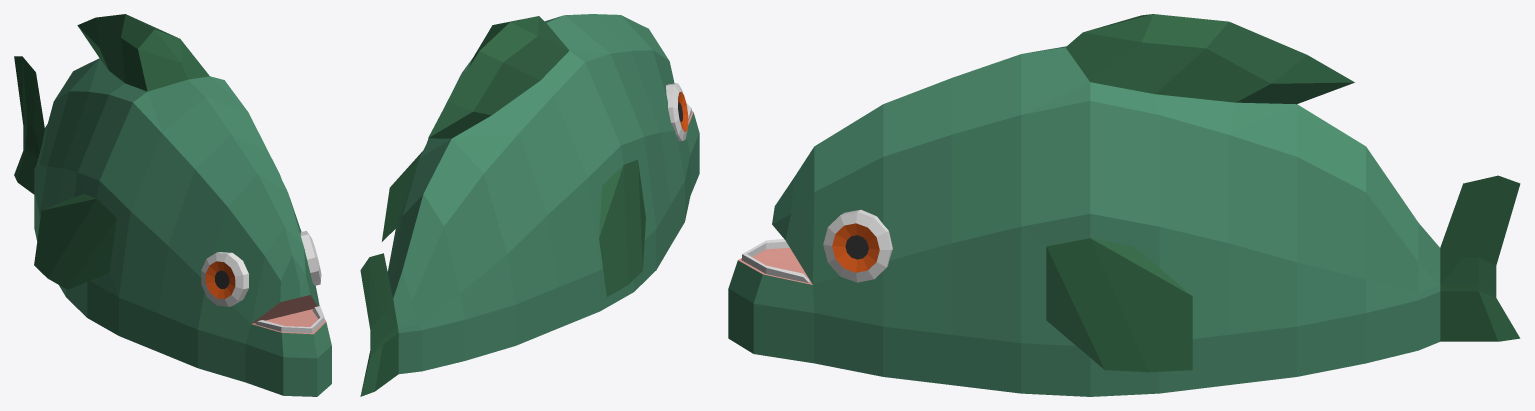
The model's file is Fish.fbx.
3 renders of one model, left to right at view 1: azimuth 30°, elevation 25°; view 2: azimuth 150°, elevation 25°; view 3: azimuth 270°, elevation 25°, orthographic. The views are drawn at different scales.
Visible parts, largest first — view 1: Cylinder.005, Cylinder.007, Cylinder.006; view 2: Cylinder.005, Cylinder.007; view 3: Cylinder.005, Cylinder.006.
Part boxes in pixels (x1,y1,x2,y2): Cylinder.005: [14, 14, 331, 396]; Cylinder.007: [201, 252, 248, 306]; Cylinder.006: [300, 230, 321, 285]; Cylinder.005: [360, 14, 699, 396]; Cylinder.007: [666, 83, 688, 141]; Cylinder.005: [728, 14, 1520, 396]; Cylinder.006: [823, 209, 892, 282].
Size of the model in its own units: 119 by 130 by 287.
